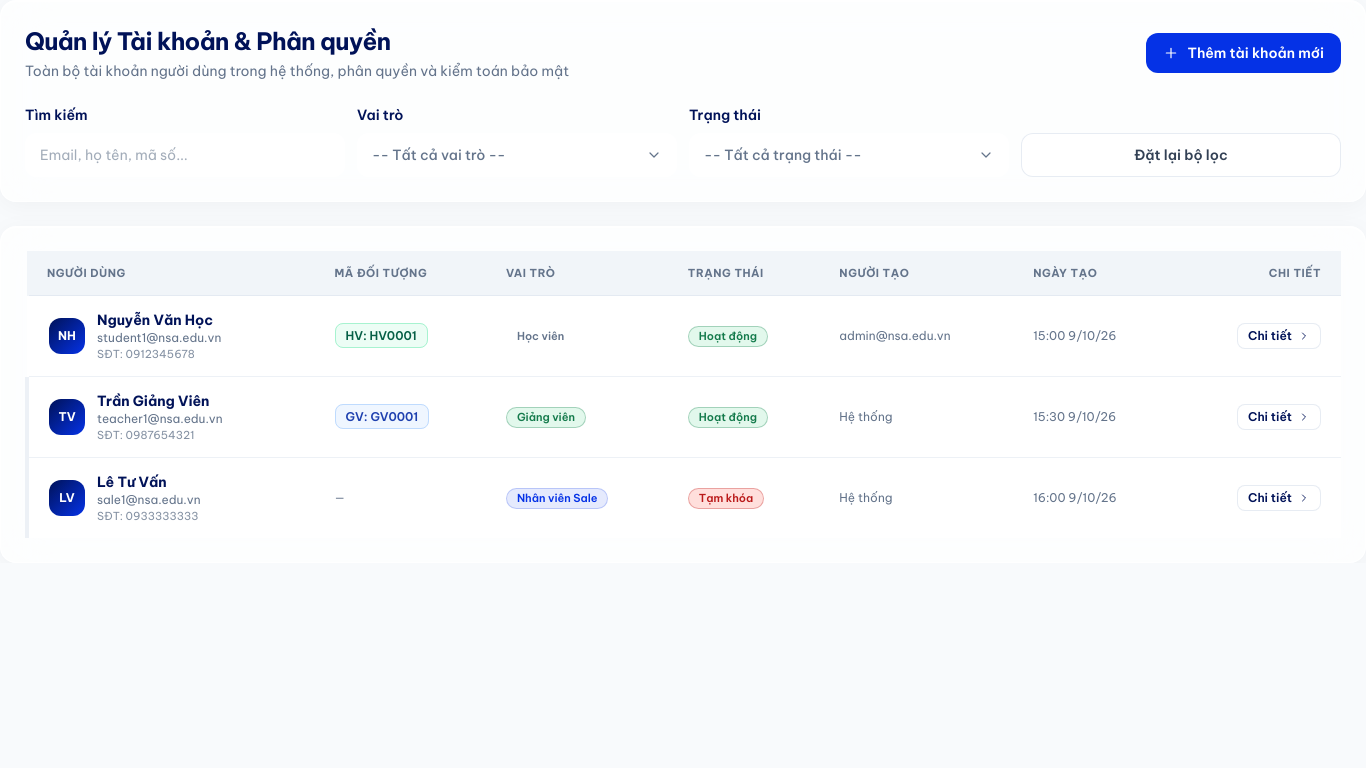
Scenario: UserManagementPage › opens slide-over drawer and displays audit history when clicking user row and audit tab
# Click the user row to open slide-over drawer
What coordinates should you click on to do the following:
click the text "Nguyễn Văn Học"
I would click on:
 (159, 320)
Its box is [97, 310, 221, 330].
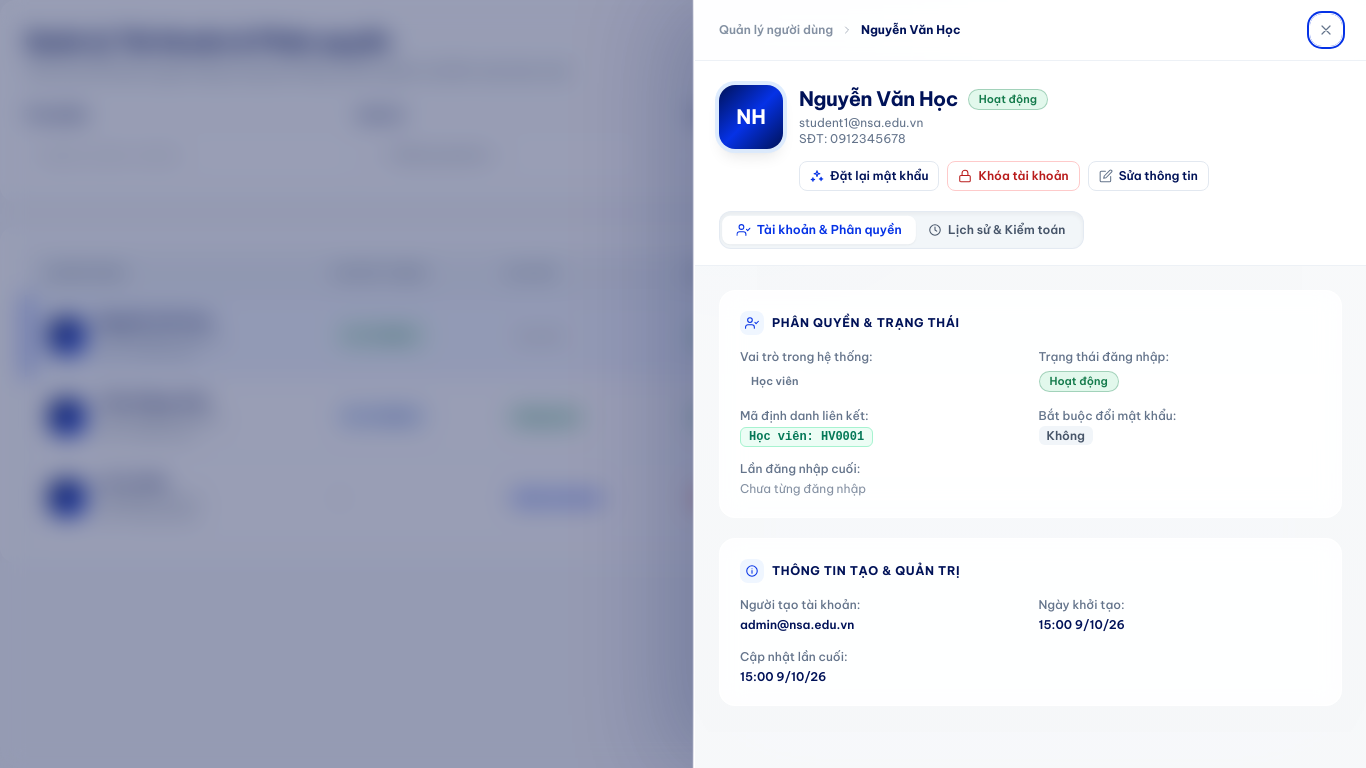
Now the button "Đặt lại mật khẩu" is shown, box [799, 161, 940, 191]
# Switch to audit tab
What coordinates should you click on to do the following:
click the button "Lịch sử & Kiểm toán"
I would click on:
 (997, 230)
Its box is [914, 216, 1079, 244].
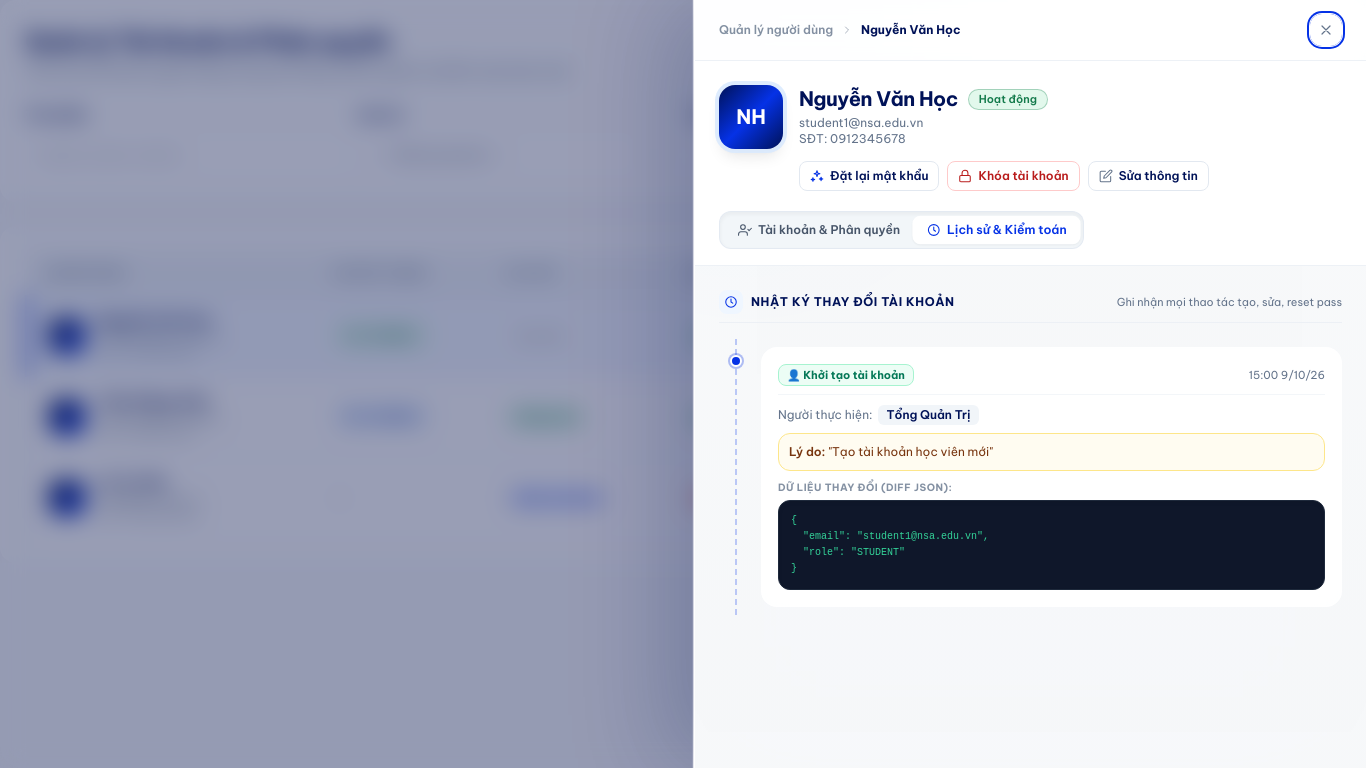
Now the text "\"Tạo tài khoản học viên mới\"" is shown, box [828, 444, 993, 459]
